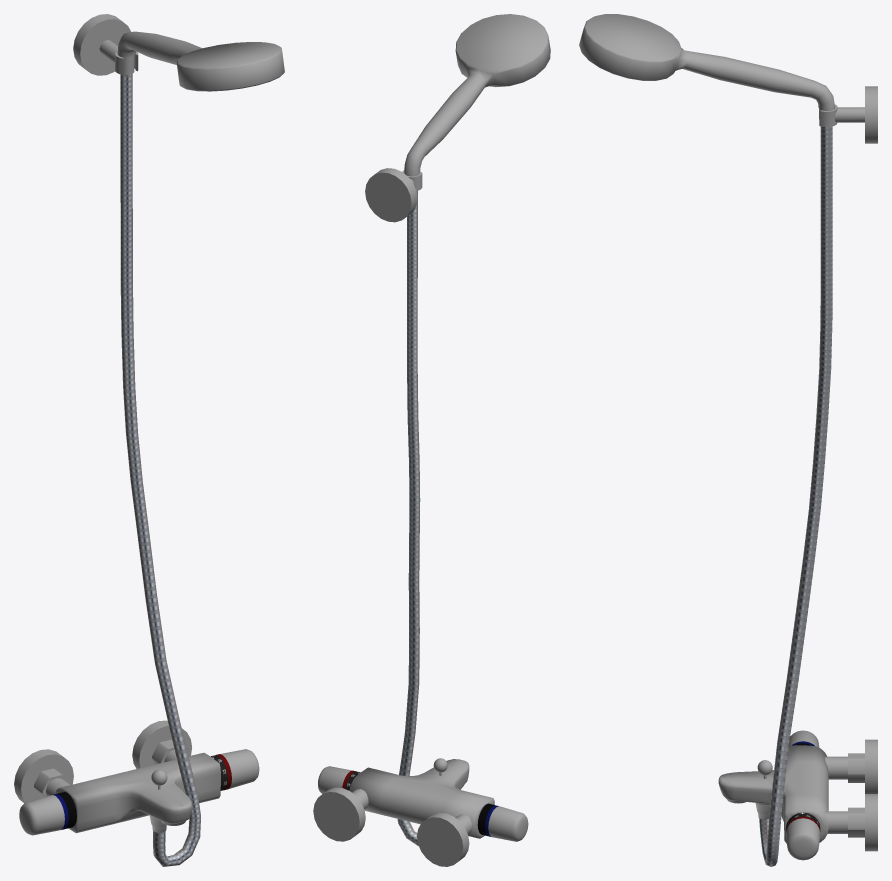
The model's file is mixer-tap-for-bath-and-shower.obj.
3 views of the same model, side by side, from view 1: azimuth 30°, elevation 25°; view 2: azimuth 150°, elevation 25°; view 3: azimuth 270°, elevation 25° (orthographic). The views are drawn at different scales.
Parts seen in each view (by area): view 1: Tap, Hose, HoseHandle, PipeConnexions, WallSupport; view 2: Tap, HoseHandle, Hose, PipeConnexions, WallSupport; view 3: Hose, HoseHandle, Tap, PipeConnexions, WallSupport.
Boxes of the visible parts, bbox=[...] form: Tap: bbox=[19, 749, 259, 835]; Hose: bbox=[120, 74, 200, 866]; HoseHandle: bbox=[117, 31, 284, 91]; PipeConnexions: bbox=[14, 720, 191, 803]; WallSupport: bbox=[73, 14, 138, 75]; Tap: bbox=[318, 758, 528, 841]; HoseHandle: bbox=[404, 14, 550, 176]; Hose: bbox=[397, 190, 420, 846]; PipeConnexions: bbox=[313, 787, 472, 866]; WallSupport: bbox=[365, 168, 422, 222]; Hose: bbox=[759, 126, 832, 866]; HoseHandle: bbox=[579, 14, 834, 110]; Tap: bbox=[718, 730, 828, 860]; PipeConnexions: bbox=[825, 739, 877, 851]; WallSupport: bbox=[819, 86, 877, 143].
Bounding box in the file's own units: 29.02 × 106 × 34.72.
11 materials, 3 textured.
